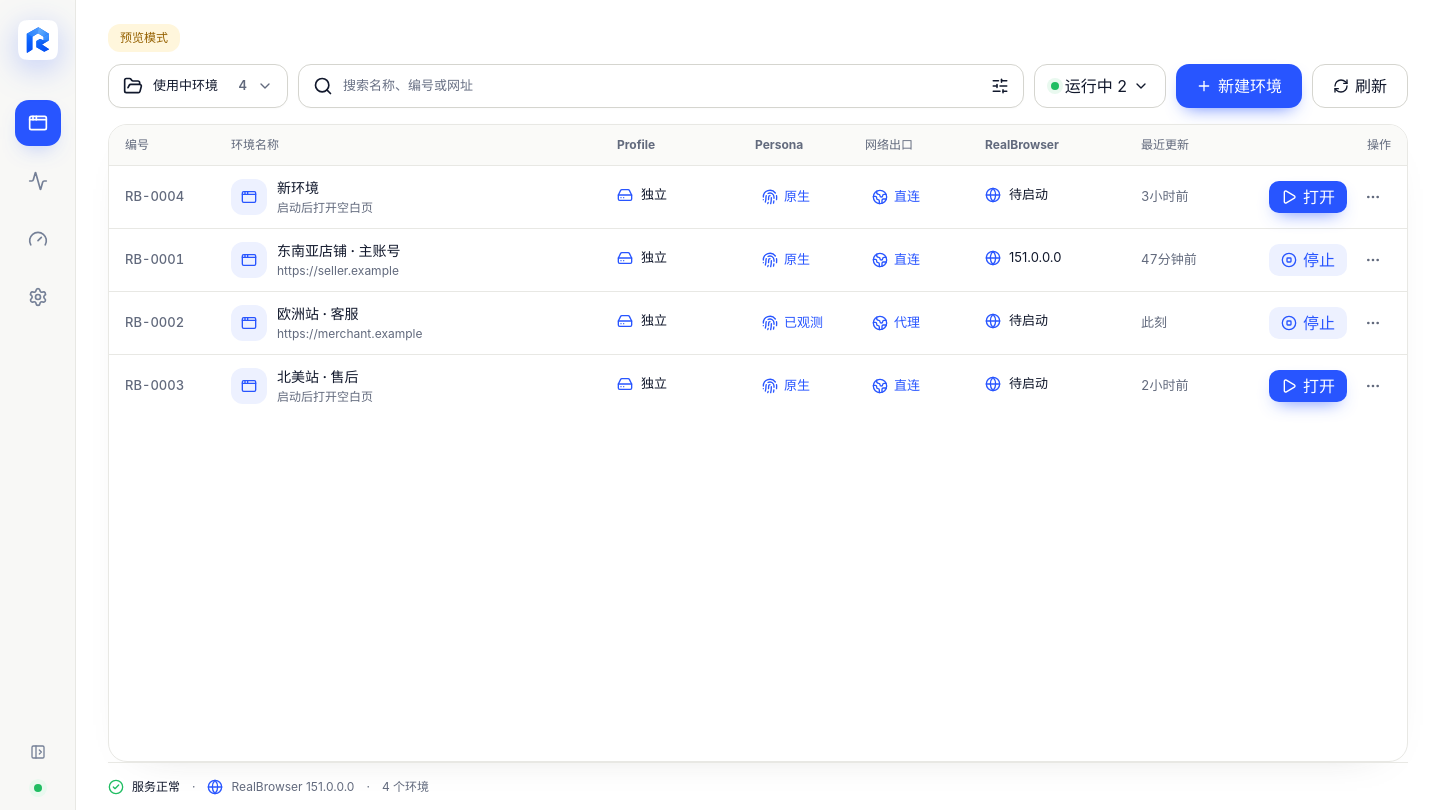
Test: Browser Identity table › configures and observes display metrics as one device atom
Click the button "原生" in the row of "RB-0003": {"x": 786, "y": 386} left=755, top=371, right=817, bottom=401
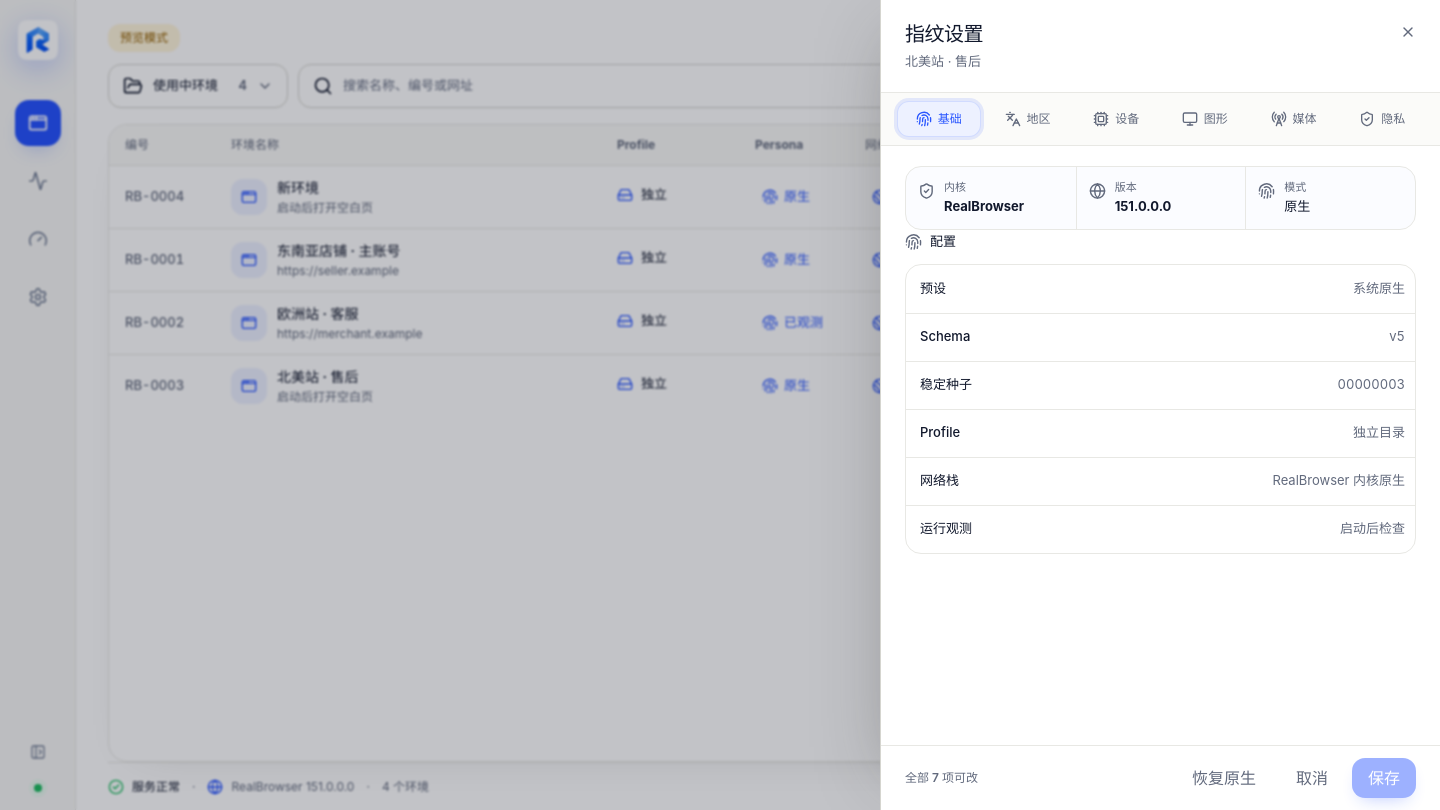
Click the button "设备": {"x": 1116, "y": 118} left=1074, top=100, right=1158, bottom=136
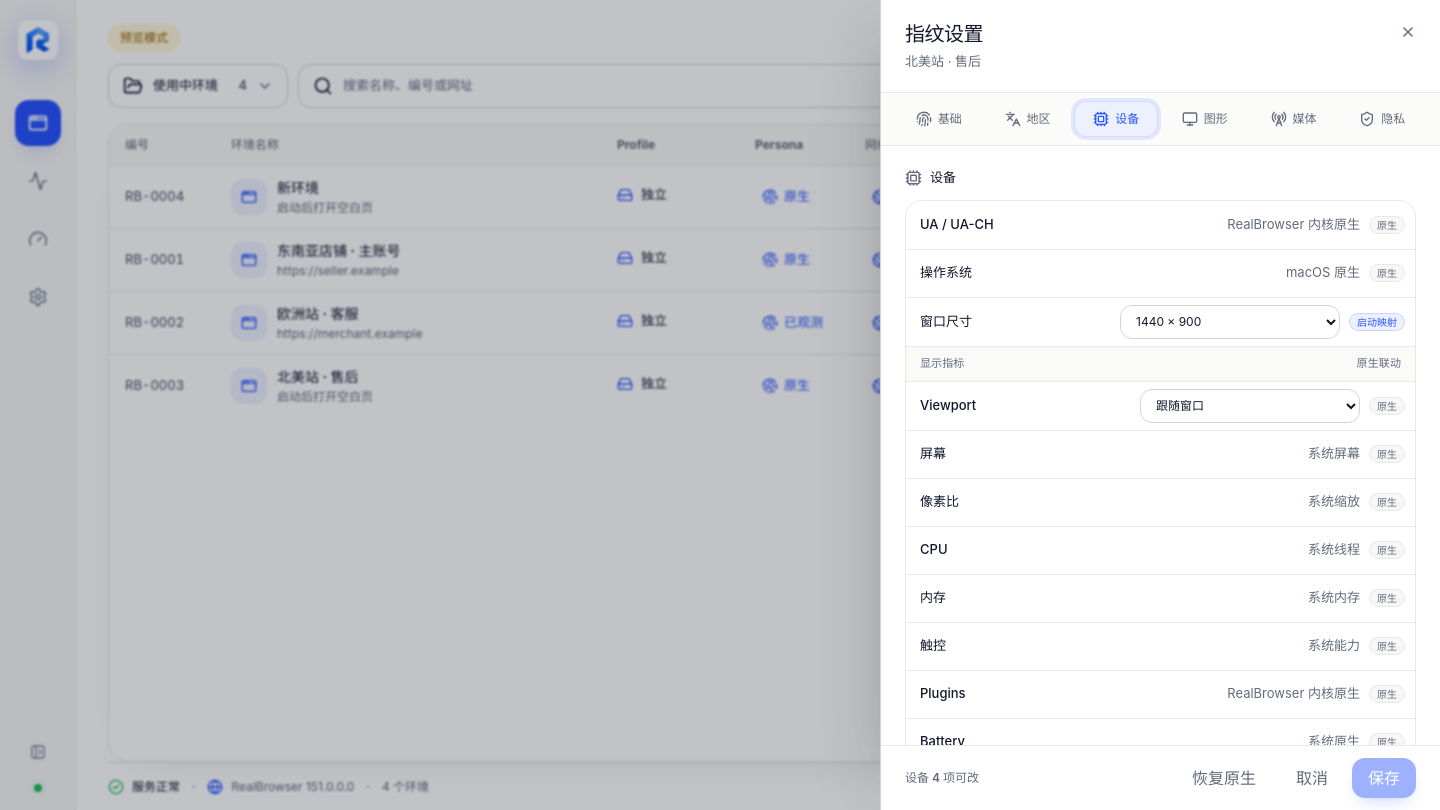
Select "1366 × 768" in the dropdown named "Viewport": {"x": 1250, "y": 406} left=1140, top=388, right=1360, bottom=422
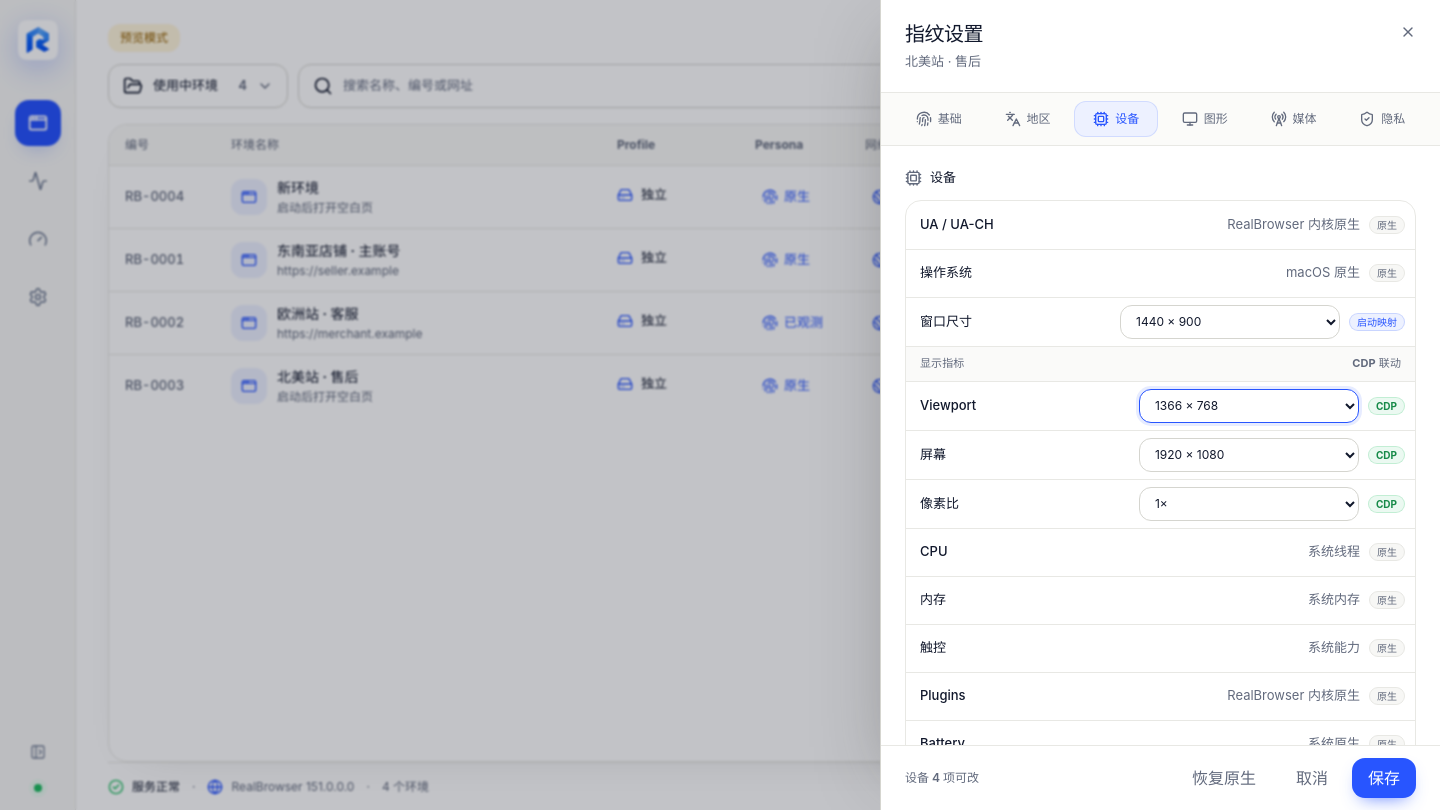
Select "1920 × 1080" in the dropdown named "屏幕": {"x": 1249, "y": 454} left=1139, top=438, right=1359, bottom=472
Select "1.25×" in the dropdown named "像素比": {"x": 1249, "y": 504} left=1139, top=486, right=1359, bottom=520
Click the button "保存": {"x": 1384, "y": 778} left=1352, top=758, right=1416, bottom=798
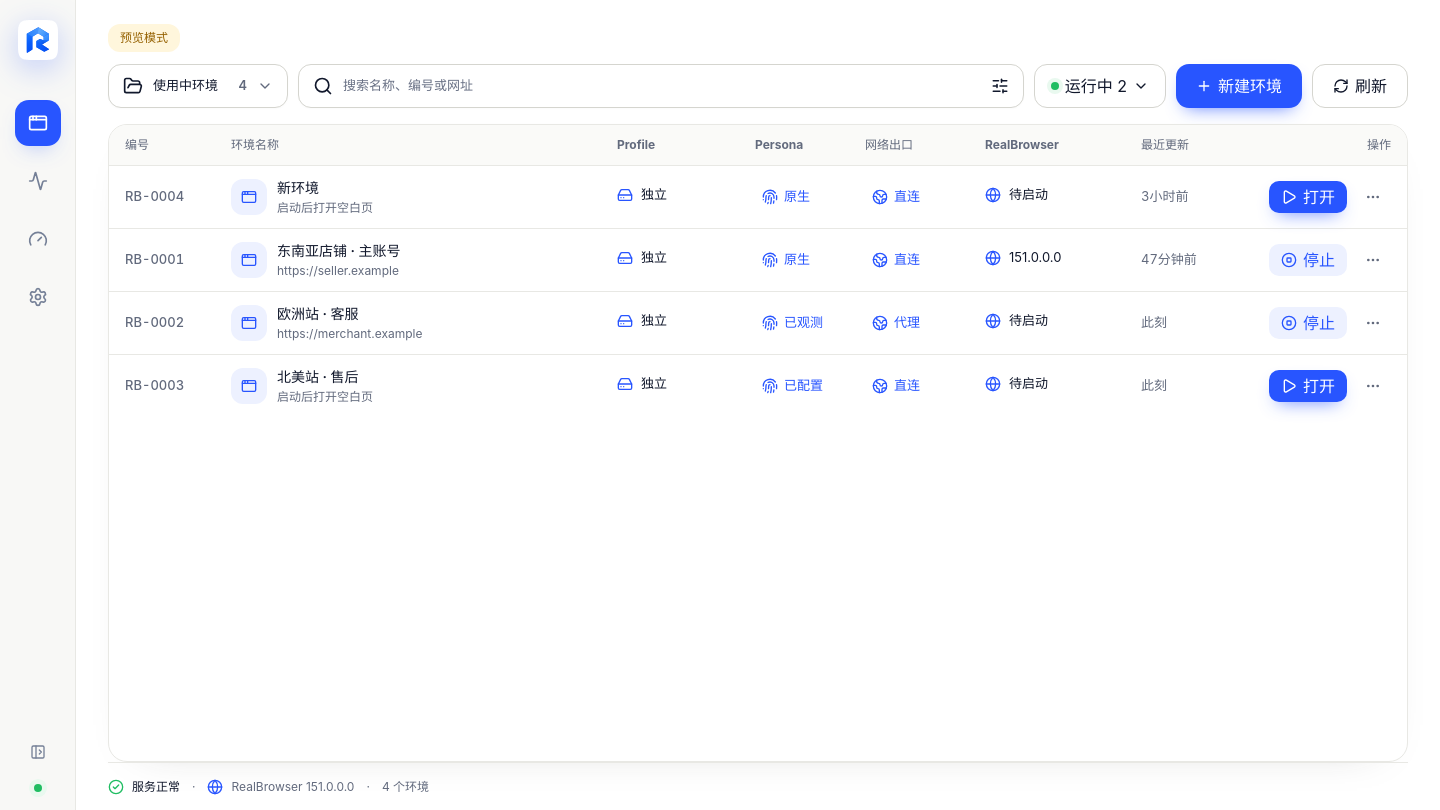
Result: the button "已配置" is shown at left=755, top=371, right=830, bottom=401
Click the button "打开" in the row of "RB-0003": {"x": 1308, "y": 386} left=1269, top=370, right=1347, bottom=402
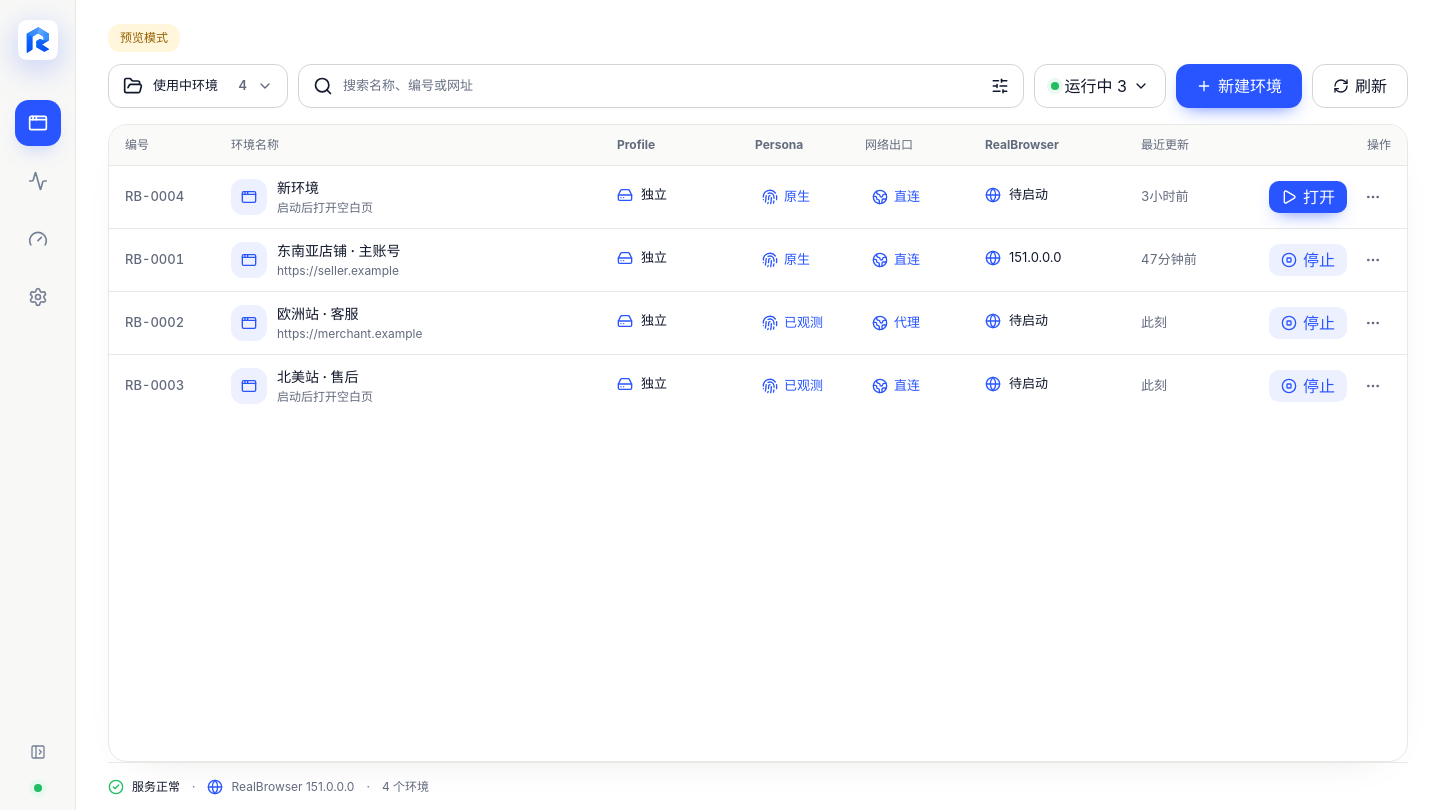
Result: the button "已观测" in the row of "RB-0003" is shown
Click the button "已观测" in the row of "RB-0003": {"x": 792, "y": 386} left=755, top=371, right=830, bottom=401
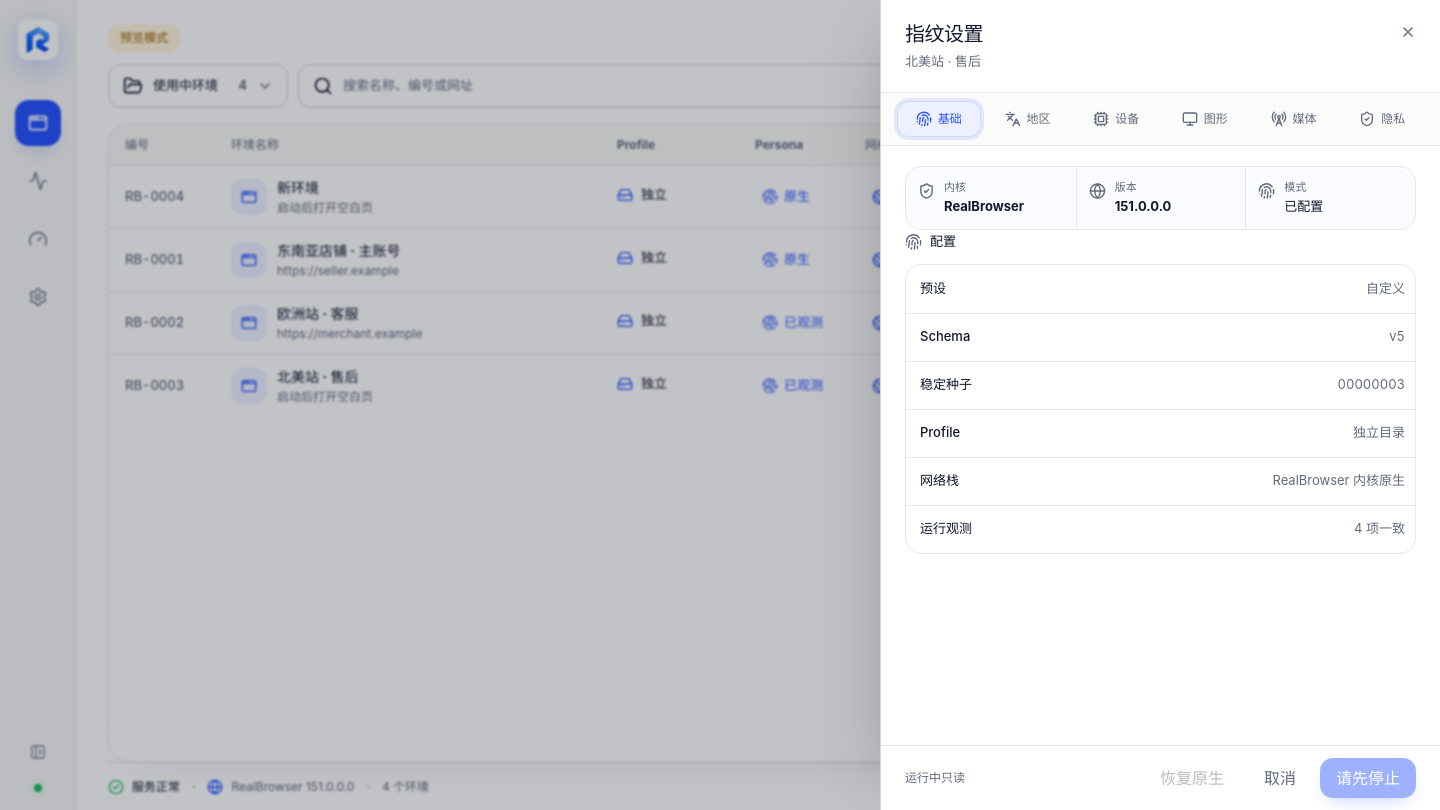
Result: the text "4 项一致" is shown at left=1354, top=519, right=1405, bottom=539
